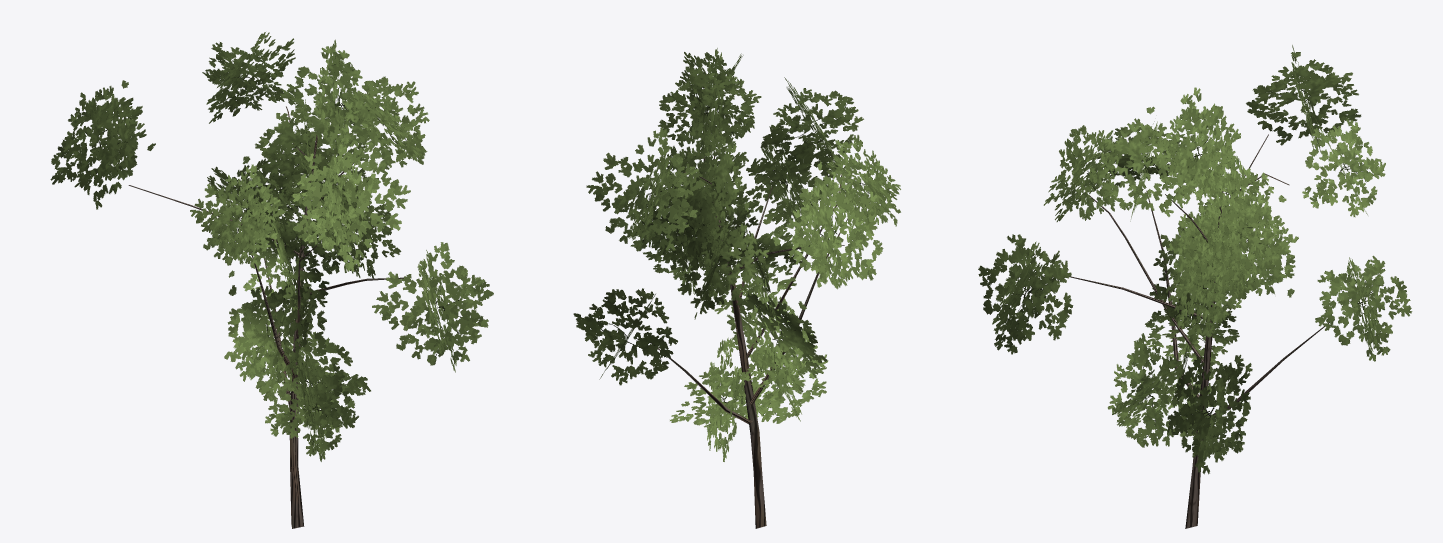
The model's file is sapling-a.lod1.glb.
3 renders of one model, left to right at view 1: azimuth 30°, elevation 25°; view 2: azimuth 150°, elevation 25°; view 3: azimuth 270°, elevation 25°, orthographic. The views are drawn at different scales.
Visible parts, largest first — view 1: foliage, bark; view 2: foliage, bark; view 3: foliage, bark.
Part boxes in pixels (left/top/right/bottom): foliage: left=50, top=32, right=493, bottom=461; bark: left=128, top=106, right=403, bottom=528; foliage: left=573, top=48, right=900, bottom=461; bark: left=657, top=156, right=847, bottom=528; foliage: left=978, top=45, right=1412, bottom=474; bark: left=1069, top=134, right=1329, bottom=528.
Bounding box in the file's own units: 1 × 1.3 × 1.22.
2 materials, 2 textured.
